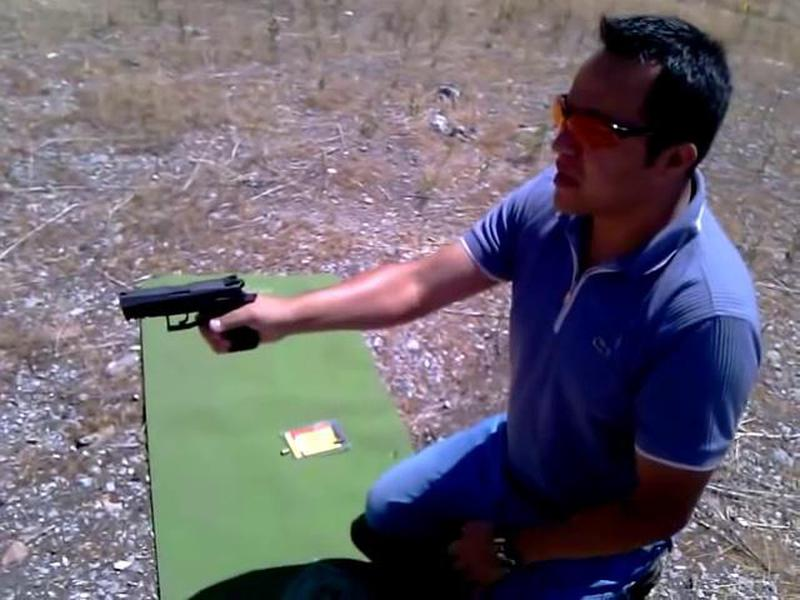Pistola: (115, 271, 278, 368)
